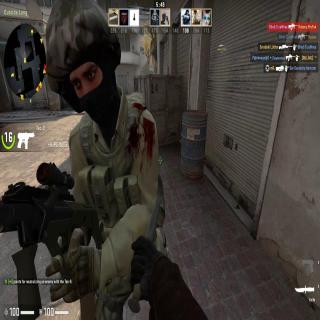CT-Body: (33, 0, 174, 318)
CT-Head: (42, 1, 128, 119)
